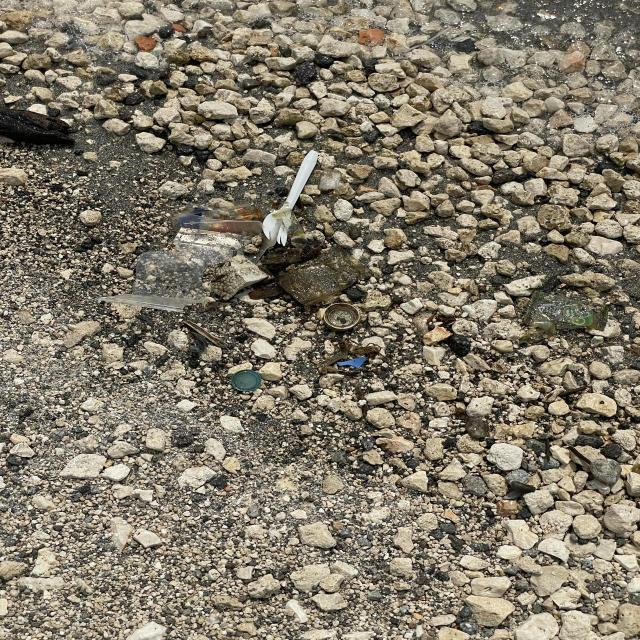plastic_waste: (323, 304, 361, 333), (232, 369, 264, 393)
styrofoam_waste: (212, 255, 270, 302)
